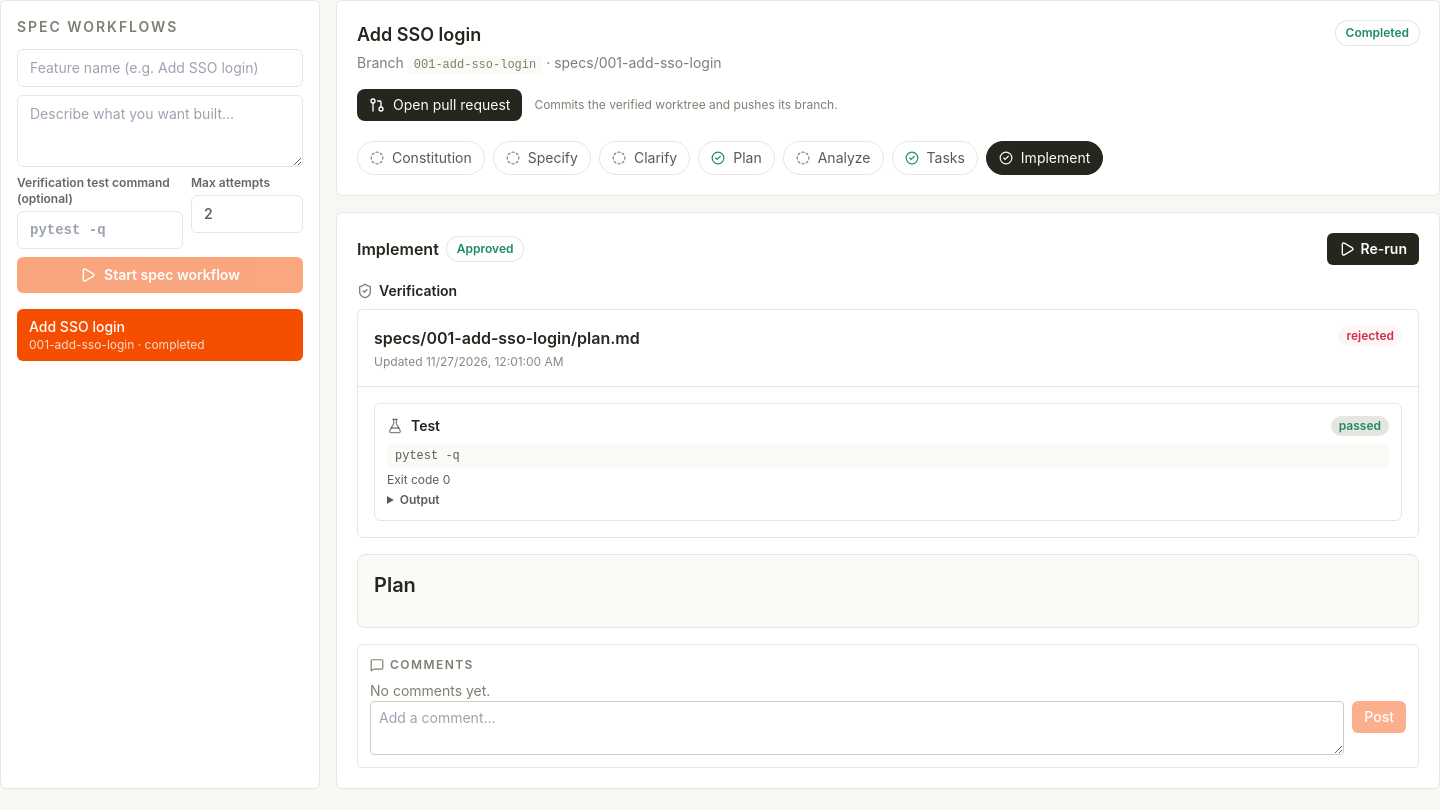
SpecPanel › pull request (Plan 4) › shows why a pull request could not be opened
The image size is (1440, 810).
Step 1. Click the button "Open pull request" → {"x": 440, "y": 105}, box left=357, top=89, right=522, bottom=121
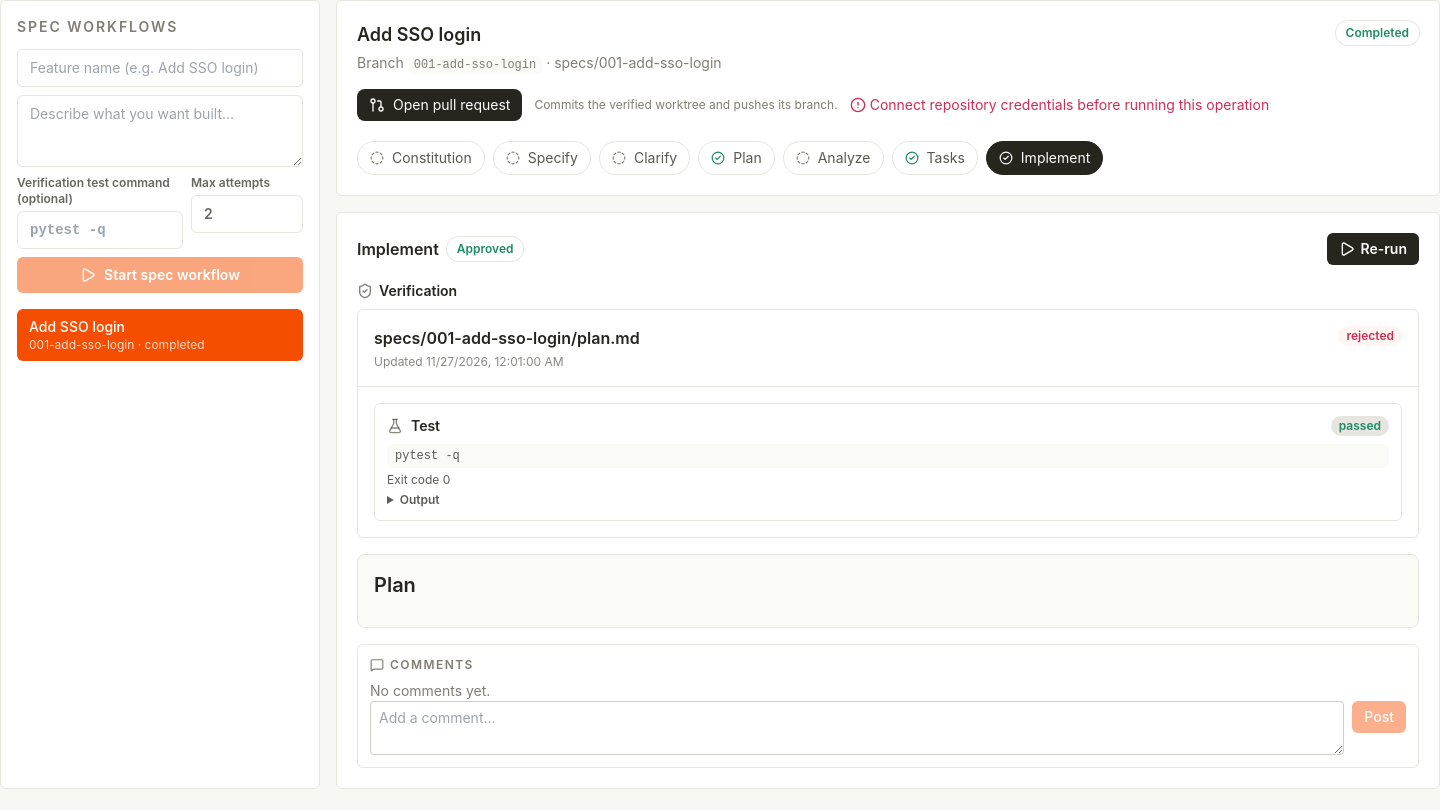
Expected: the text "Connect repository credentials before running this operation" is shown, left=850, top=95, right=1269, bottom=115
